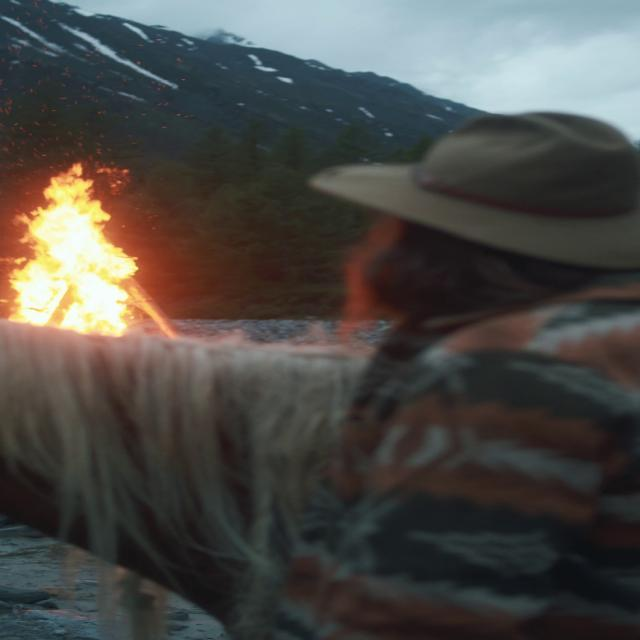Fire: (2, 159, 152, 335)
